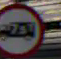Heavy Vehicles: (1, 2, 47, 58)
